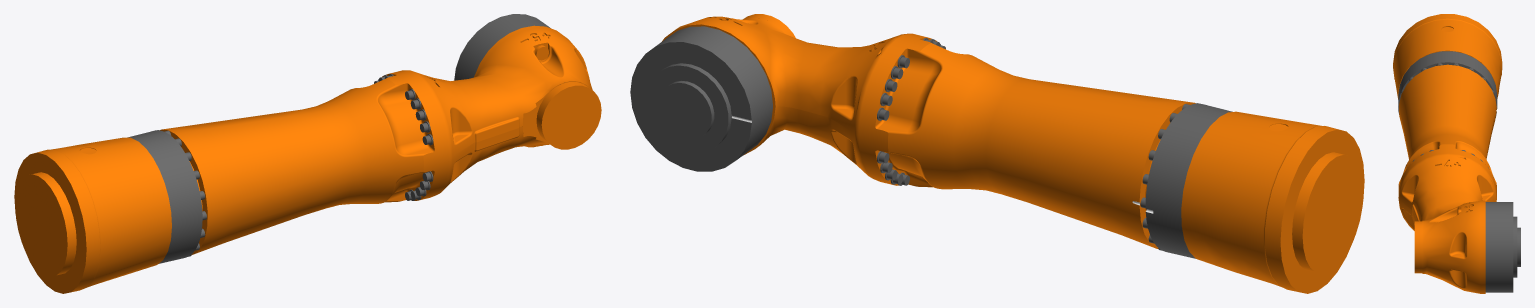
3 views of the same model, side by side, from view 1: azimuth 30°, elevation 25°; view 2: azimuth 150°, elevation 25°; view 3: azimuth 270°, elevation 25° (orthographic). The views are drawn at different scales.
Parts seen in each view (by area): view 1: link_4; view 2: link_4; view 3: link_4.
Part boxes in pixels (x1,y1,x2,y2): link_4: [14, 14, 601, 293]; link_4: [630, 14, 1364, 293]; link_4: [1393, 14, 1520, 293].
Bounding box in the file's own units: 0.619 × 0.1613 × 0.138.
